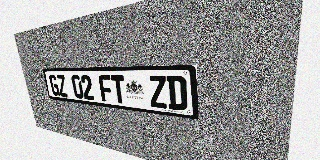0: (71, 75, 84, 99)
2: (80, 75, 94, 100)
D: (166, 75, 187, 111)
F: (98, 75, 114, 102)
G: (48, 74, 60, 96)
T: (110, 75, 127, 104)
Z: (148, 75, 168, 109), (56, 75, 68, 97)
